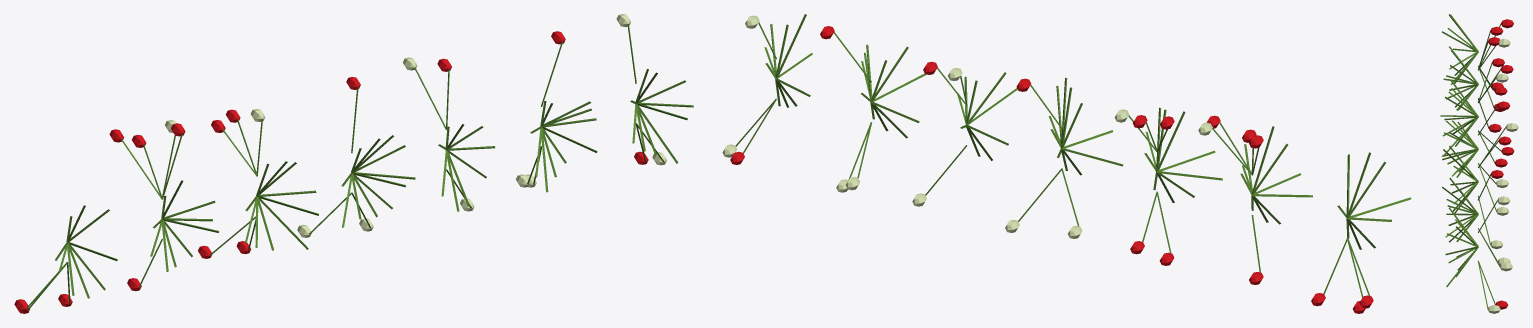
The model's file is r2c5_rest.obj.
The picture shows the model from 3 angles, left to right: view 1: azimuth 30°, elevation 25°; view 2: azimuth 150°, elevation 25°; view 3: azimuth 270°, elevation 25°; orthographic projection. The views are drawn at different scales.
Visible parts, largest first — view 1: r2c5_rest; view 2: r2c5_rest; view 3: r2c5_rest.
Boxes of the visible parts, <box> form: r2c5_rest: <box>14,14,693,313</box>; r2c5_rest: <box>722,14,1411,313</box>; r2c5_rest: <box>1440,14,1518,313</box>.
Size of the model in its own units: 1.71 by 0.3968 by 0.2555.
